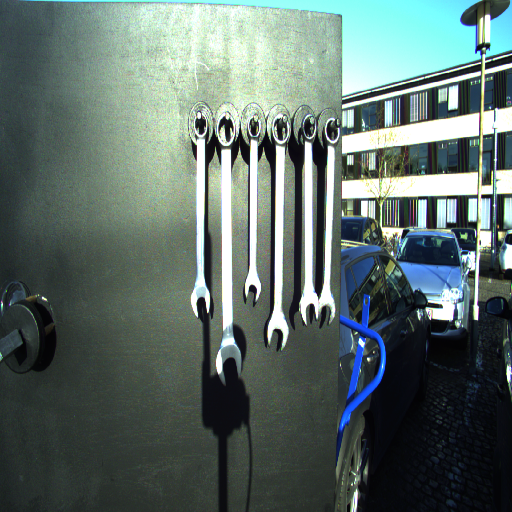bottom: (213, 346, 244, 387), (263, 316, 290, 352), (296, 292, 319, 326), (190, 288, 212, 318), (319, 291, 337, 325), (242, 276, 262, 303)
top: (215, 111, 237, 149), (270, 112, 292, 146), (322, 115, 342, 148), (300, 113, 319, 143), (189, 111, 210, 138), (245, 114, 263, 141)
